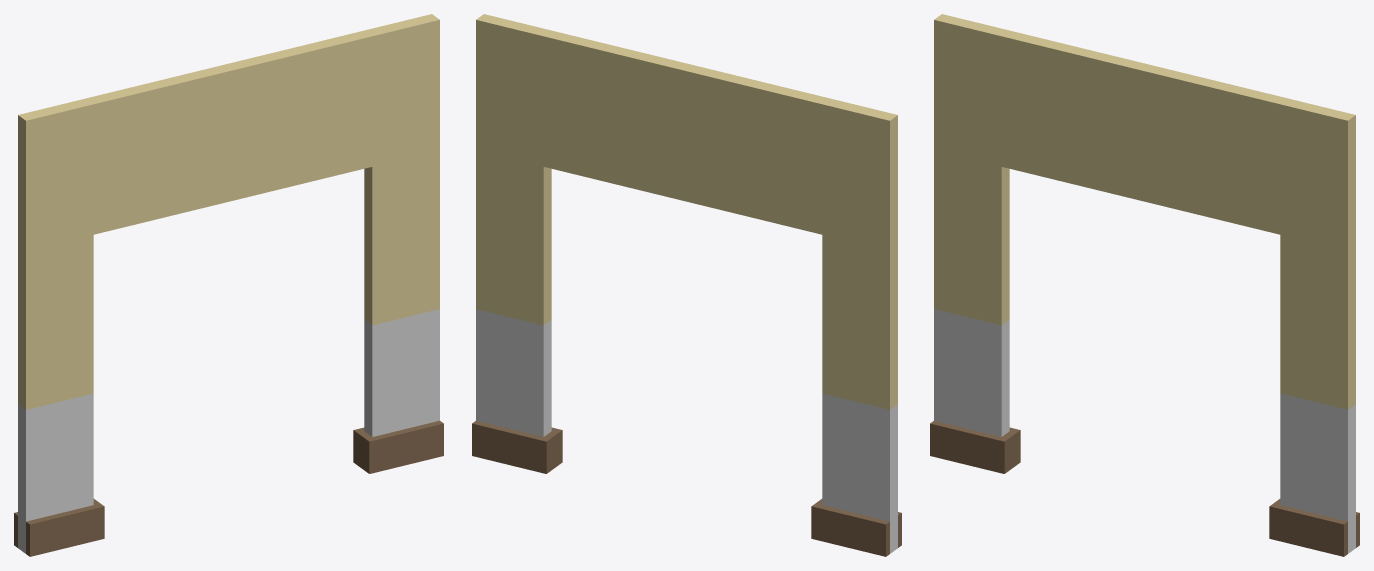
The model's file is Mesh_WallBaseboard2Colors_I5.fbx.
The picture shows the model from 3 angles, left to right: view 1: azimuth 30°, elevation 25°; view 2: azimuth 150°, elevation 25°; view 3: azimuth 330°, elevation 25°; orthographic projection.
Visible parts, largest first — view 1: Mesh_WallBaseboard2Colors_I5; view 2: Mesh_WallBaseboard2Colors_I5; view 3: Mesh_WallBaseboard2Colors_I5.
Part boxes in pixels (x1,y1,x2,y2): Mesh_WallBaseboard2Colors_I5: [14, 14, 443, 556]; Mesh_WallBaseboard2Colors_I5: [472, 14, 901, 556]; Mesh_WallBaseboard2Colors_I5: [930, 14, 1359, 556].
Bounding box in the file's own units: 3 × 3 × 0.2.
